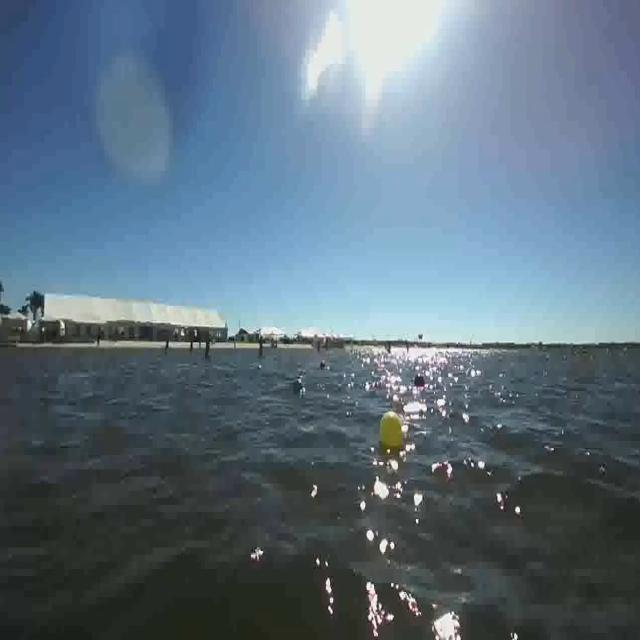yellow-buoy: (378, 410, 404, 451)
